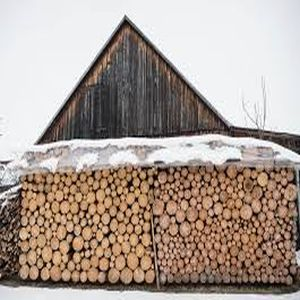log: (283, 187, 300, 202), (119, 268, 133, 286), (49, 265, 63, 282), (151, 199, 165, 216), (164, 200, 178, 217), (225, 163, 238, 181), (107, 268, 120, 285), (143, 269, 156, 286), (126, 254, 139, 271), (114, 254, 127, 271), (18, 263, 30, 280), (133, 268, 145, 284), (140, 255, 152, 271), (187, 206, 199, 222), (42, 245, 52, 264), (251, 186, 264, 200), (87, 267, 98, 283), (99, 213, 112, 226), (28, 265, 40, 279), (72, 237, 84, 251), (179, 222, 191, 236), (239, 205, 251, 219), (27, 249, 38, 264), (257, 172, 268, 187), (59, 239, 69, 255), (109, 218, 119, 234), (99, 258, 111, 271), (89, 255, 101, 268), (167, 222, 179, 235), (201, 197, 214, 209), (212, 202, 224, 215), (265, 179, 277, 192), (277, 205, 289, 218), (213, 272, 225, 285), (51, 251, 62, 265), (157, 171, 168, 185), (158, 215, 169, 229), (176, 210, 187, 224), (200, 272, 210, 287), (272, 250, 284, 262), (141, 234, 152, 247), (138, 194, 149, 207), (221, 208, 232, 221), (70, 270, 80, 284), (18, 252, 28, 266), (18, 227, 28, 241), (36, 193, 46, 207), (50, 200, 60, 214), (140, 181, 150, 195), (179, 198, 188, 213), (133, 223, 144, 235), (107, 206, 118, 218), (87, 203, 98, 215), (96, 272, 106, 285), (50, 238, 60, 251), (112, 243, 122, 256), (142, 222, 152, 235), (95, 190, 105, 203), (249, 169, 259, 182), (243, 179, 253, 192), (190, 271, 200, 284), (207, 273, 217, 286), (37, 233, 46, 247), (44, 225, 53, 239), (199, 209, 208, 223), (117, 223, 128, 234), (272, 190, 283, 201), (79, 271, 89, 283), (134, 244, 144, 256), (129, 234, 139, 246), (56, 225, 66, 237), (20, 215, 30, 227), (55, 191, 65, 203), (253, 199, 261, 214), (260, 273, 270, 285), (187, 256, 199, 266), (100, 237, 109, 250), (121, 241, 130, 254), (45, 172, 54, 185), (19, 241, 30, 251), (129, 215, 140, 225), (119, 202, 129, 213), (28, 200, 38, 211), (80, 182, 90, 193), (34, 173, 44, 184), (268, 198, 278, 209), (266, 210, 276, 221), (229, 246, 239, 257), (208, 250, 218, 261), (217, 253, 227, 264), (41, 268, 50, 280), (81, 259, 90, 271), (89, 239, 98, 251), (83, 226, 92, 238), (19, 197, 28, 209), (87, 191, 96, 203), (64, 174, 73, 186), (182, 189, 191, 201), (202, 173, 211, 185), (265, 245, 274, 257), (62, 270, 70, 283), (131, 201, 139, 214), (61, 201, 69, 214), (191, 187, 199, 200), (196, 219, 204, 232), (101, 225, 111, 235), (99, 179, 109, 189), (69, 185, 79, 195), (289, 266, 299, 276), (143, 211, 152, 222), (97, 203, 106, 214), (117, 168, 126, 179), (53, 172, 62, 183), (161, 233, 170, 244), (257, 211, 266, 222), (182, 273, 191, 284), (74, 224, 82, 236), (243, 168, 251, 180), (97, 246, 104, 259), (80, 200, 87, 213), (63, 186, 70, 199), (29, 237, 38, 247), (31, 226, 40, 236), (92, 214, 101, 224), (36, 216, 45, 226), (138, 171, 147, 181), (104, 197, 113, 207), (101, 169, 110, 179), (27, 183, 36, 193), (211, 194, 221, 203), (267, 170, 276, 180), (226, 199, 235, 209), (236, 197, 242, 212), (266, 211, 275, 221), (256, 226, 265, 236), (255, 248, 264, 258), (285, 251, 295, 260), (248, 275, 257, 285), (117, 211, 125, 222), (128, 193, 136, 204), (112, 196, 120, 207), (54, 213, 62, 224), (29, 215, 37, 226), (116, 186, 124, 197), (219, 181, 227, 192), (236, 173, 244, 184), (274, 172, 282, 183), (220, 219, 228, 230), (241, 234, 249, 245), (286, 276, 294, 287), (197, 263, 205, 274), (108, 233, 115, 245), (239, 250, 246, 262), (132, 179, 141, 188), (241, 274, 250, 283), (67, 260, 75, 270), (78, 210, 86, 220), (38, 206, 46, 216), (94, 169, 102, 179), (92, 180, 100, 190), (71, 174, 79, 184), (37, 184, 45, 194), (167, 173, 175, 183), (199, 186, 207, 196), (206, 186, 214, 196), (199, 233, 207, 243), (233, 233, 241, 243), (284, 231, 292, 241), (169, 266, 179, 274), (224, 274, 232, 284), (47, 191, 54, 202), (237, 189, 244, 200), (233, 222, 240, 233), (174, 273, 181, 284), (230, 273, 237, 284), (116, 234, 124, 243), (126, 224, 134, 233), (75, 193, 83, 202), (86, 177, 94, 186), (43, 184, 52, 192), (182, 180, 191, 188), (161, 194, 170, 202), (189, 198, 197, 207), (280, 178, 288, 187), (252, 218, 260, 227), (255, 234, 263, 243), (213, 242, 222, 250), (230, 257, 239, 265), (185, 265, 193, 274), (126, 173, 133, 183), (187, 172, 194, 182), (157, 250, 164, 260), (160, 274, 167, 284), (194, 172, 201, 182), (211, 177, 218, 187), (226, 233, 233, 243), (249, 233, 256, 243), (282, 268, 289, 278), (269, 275, 276, 285), (236, 274, 243, 284), (177, 258, 184, 268), (80, 172, 86, 183), (61, 254, 69, 262), (96, 231, 104, 239), (125, 209, 133, 217), (19, 207, 27, 215), (45, 210, 53, 218), (169, 216, 177, 224), (157, 242, 165, 250), (260, 197, 268, 205), (260, 205, 268, 213), (243, 243, 251, 251), (250, 254, 258, 262), (72, 215, 79, 224), (147, 168, 154, 177), (181, 168, 188, 177), (154, 234, 161, 243), (161, 267, 170, 274), (207, 165, 214, 174), (218, 172, 225, 181), (226, 185, 233, 194), (208, 209, 215, 218), (277, 218, 284, 227), (197, 242, 204, 251), (67, 212, 73, 222), (68, 195, 74, 205), (27, 174, 33, 184), (168, 275, 174, 285), (204, 243, 214, 249), (280, 276, 286, 286), (35, 248, 42, 256), (84, 250, 91, 258), (40, 226, 47, 234), (86, 218, 93, 226), (60, 215, 67, 223), (120, 180, 128, 187), (153, 180, 160, 188), (175, 172, 182, 180), (160, 260, 168, 267), (268, 227, 275, 235), (277, 241, 284, 249), (123, 233, 129, 242), (68, 222, 74, 231), (123, 186, 129, 195), (108, 175, 114, 184), (105, 188, 111, 197), (84, 239, 89, 249), (191, 221, 196, 231), (256, 274, 261, 284), (109, 262, 116, 269), (114, 179, 121, 186), (286, 225, 293, 232), (74, 252, 80, 260), (26, 224, 32, 232), (44, 202, 50, 210), (163, 245, 169, 253), (205, 225, 211, 233), (178, 189, 183, 198), (194, 235, 199, 244), (76, 263, 82, 270), (60, 263, 66, 270), (147, 177, 153, 184), (132, 171, 138, 178), (52, 184, 58, 191), (178, 236, 184, 243), (215, 186, 221, 193), (275, 275, 280, 283), (215, 234, 221, 240), (126, 167, 133, 172), (111, 184, 116, 191), (174, 181, 181, 186), (169, 189, 174, 196), (172, 236, 177, 243), (281, 169, 286, 176), (110, 256, 116, 261), (84, 213, 90, 218)
